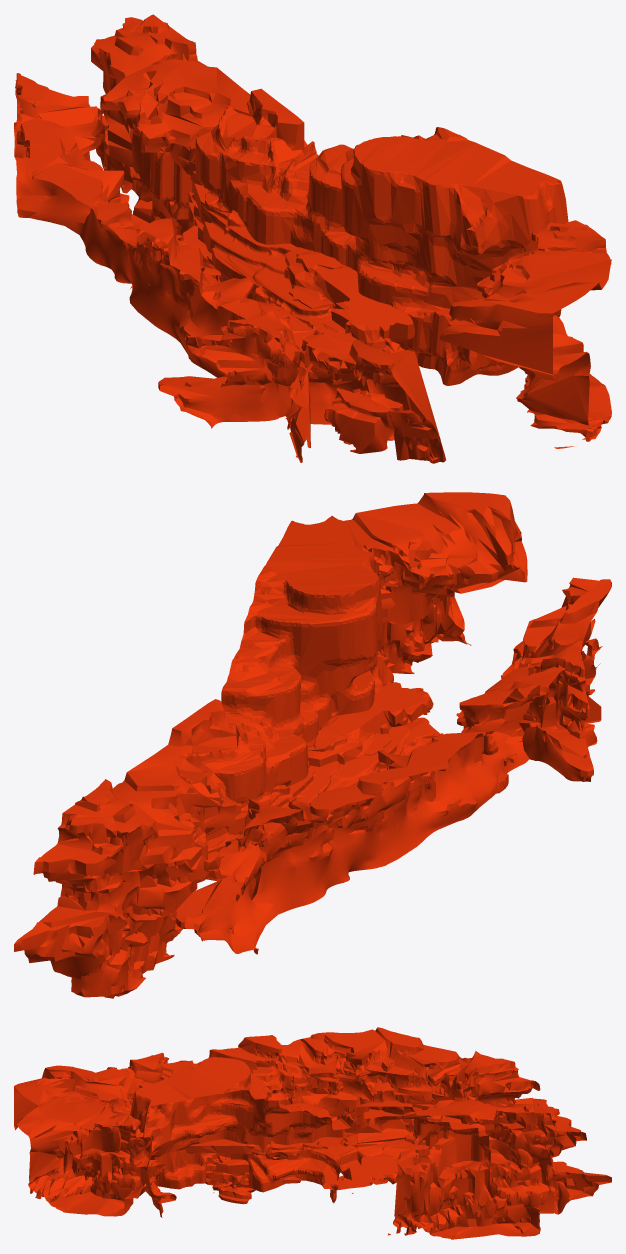
The model's file is Canyon_Mountains01.fbx.
3 renders of one model, top to bottom at view 1: azimuth 30°, elevation 25°; view 2: azimuth 150°, elevation 25°; view 3: azimuth 270°, elevation 25°, orthographic. The views are drawn at different scales.
Parts seen in each view (by area): view 1: Circle.009, Circle.617, Circle.004, Circle.005, Circle.003, Circle.820, Circle.496_cell.003, Circle.029_cell.001; view 2: Circle.617, Circle.009, Circle.005, Circle.004, Circle.003, Circle.496_cell.003, Circle.820; view 3: Circle.005, Circle.009, Circle.617, Circle.004, Circle.003, Circle.496_cell.003, Circle.820.
Part boxes in pixels (x1=…): Circle.009: x1=150, y1=105, x2=568, y2=385; Circle.617: x1=14, y1=73, x2=315, y2=462; Circle.004: x1=439, y1=220, x2=611, y2=448; Circle.005: x1=91, y1=14, x2=304, y2=283; Circle.003: x1=158, y1=311, x2=445, y2=463; Circle.820: x1=188, y1=171, x2=382, y2=350; Circle.496_cell.003: x1=284, y1=247, x2=415, y2=352; Circle.029_cell.001: x1=324, y1=388, x2=403, y2=453; Circle.617: x1=176, y1=638, x2=602, y2=954; Circle.009: x1=187, y1=519, x2=393, y2=883; Circle.005: x1=14, y1=699, x2=241, y2=998; Circle.004: x1=325, y1=492, x2=527, y2=673; Circle.003: x1=501, y1=577, x2=611, y2=781; Circle.496_cell.003: x1=307, y1=682, x2=433, y2=766; Circle.820: x1=206, y1=717, x2=443, y2=859; Circle.005: x1=357, y1=1096, x2=611, y2=1239; Circle.009: x1=130, y1=1057, x2=490, y2=1217; Circle.617: x1=107, y1=1027, x2=540, y2=1116; Circle.004: x1=14, y1=1077, x2=164, y2=1216; Circle.003: x1=42, y1=1052, x2=186, y2=1114; Circle.496_cell.003: x1=185, y1=1139, x2=303, y2=1204; Circle.820: x1=302, y1=1133, x2=431, y2=1193.
Bounding box in the file's own units: 6712 × 4718 × 15416.
